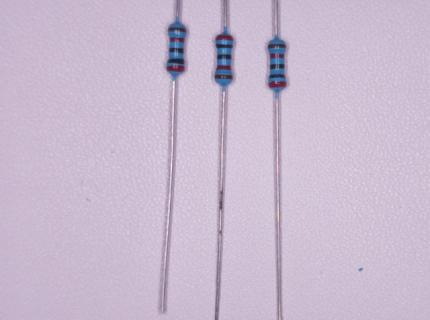Black band: (167, 59, 184, 64), (216, 44, 233, 49), (270, 64, 285, 69), (169, 48, 183, 53), (217, 54, 231, 59), (269, 74, 286, 78)
Brown band: (169, 27, 186, 33), (215, 75, 233, 79), (268, 44, 286, 48)
Red band: (269, 81, 286, 88), (166, 66, 184, 72), (216, 35, 233, 40), (170, 38, 185, 43), (216, 65, 231, 70), (270, 54, 284, 59)
